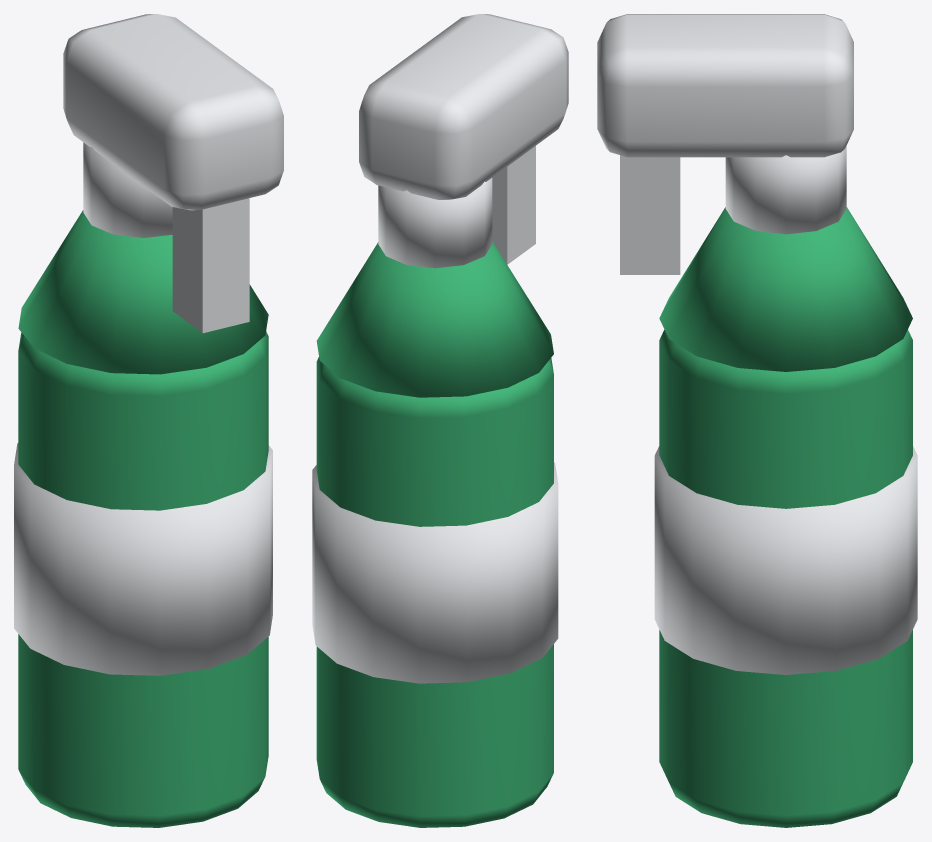
Rendered from Spray.fbx.
3 views of the same model, side by side, from view 1: azimuth 30°, elevation 25°; view 2: azimuth 150°, elevation 25°; view 3: azimuth 270°, elevation 25° (orthographic). The views are drawn at different scales.
Parts seen in each view (by area): view 1: SprayBody; view 2: SprayBody; view 3: SprayBody.
Part boxes in pixels (<box>): SprayBody: <box>14,14,283,827</box>; SprayBody: <box>312,14,568,827</box>; SprayBody: <box>597,14,917,827</box>.
Size of the model in its own units: 0.087 by 0.275 by 0.106.
